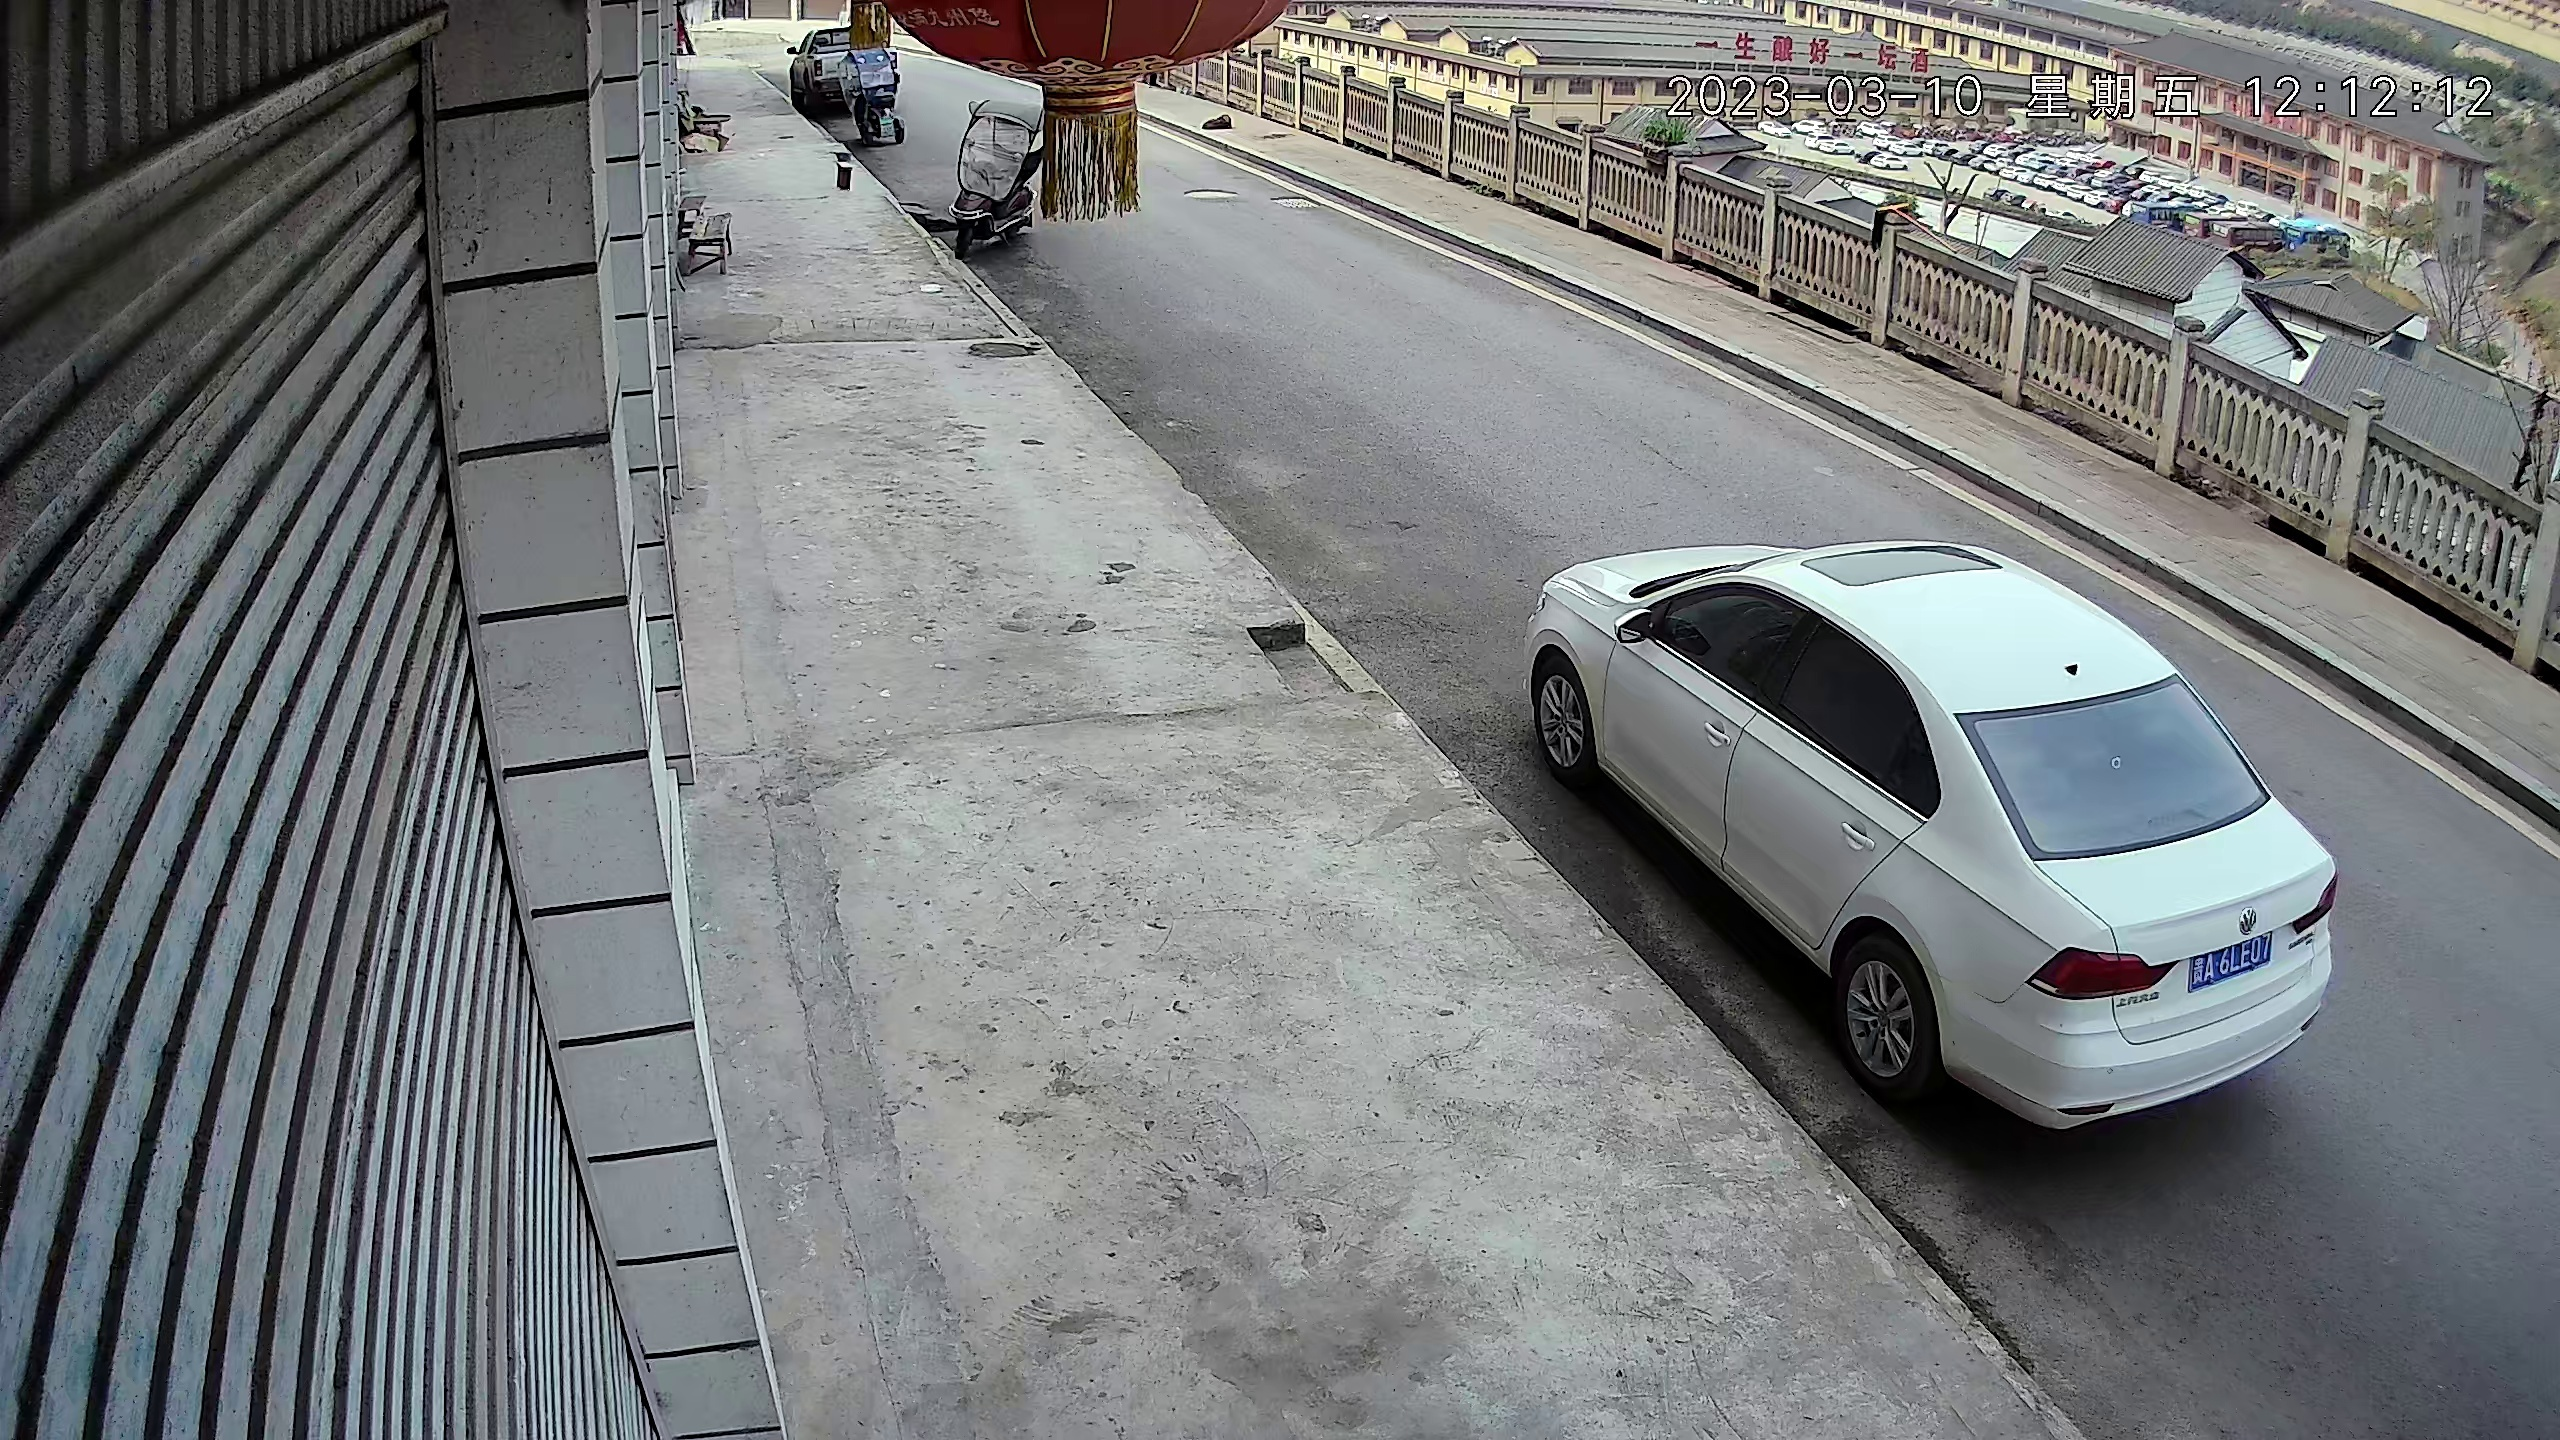motorcycle: (956, 88, 1044, 258), (847, 47, 907, 151)
sedan: (1524, 549, 2361, 1131), (2055, 169, 2171, 218), (795, 25, 839, 109), (1829, 132, 1894, 169)
